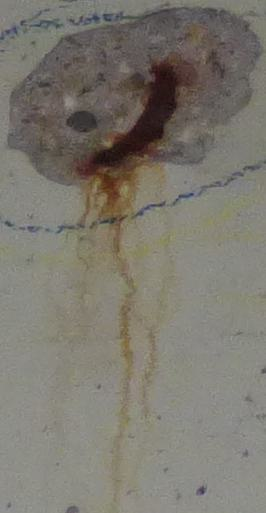Exposed reinforcement: (87, 64, 180, 167)
Spalling: (1, 6, 266, 186)
